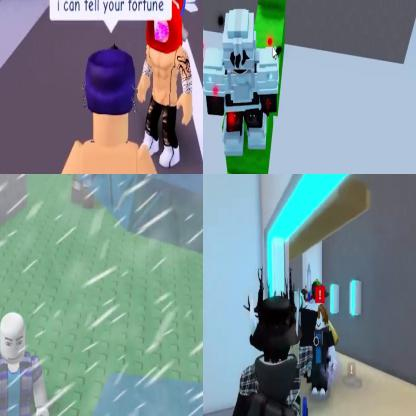Roblox-Avatar: (52, 42, 173, 174), (228, 264, 320, 416), (204, 10, 281, 158), (138, 1, 202, 169), (1, 312, 52, 416)
